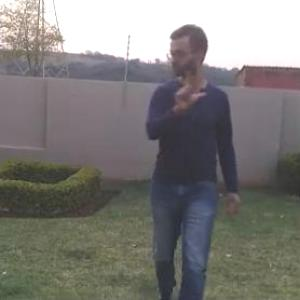land_hand: (169, 63, 209, 116)
